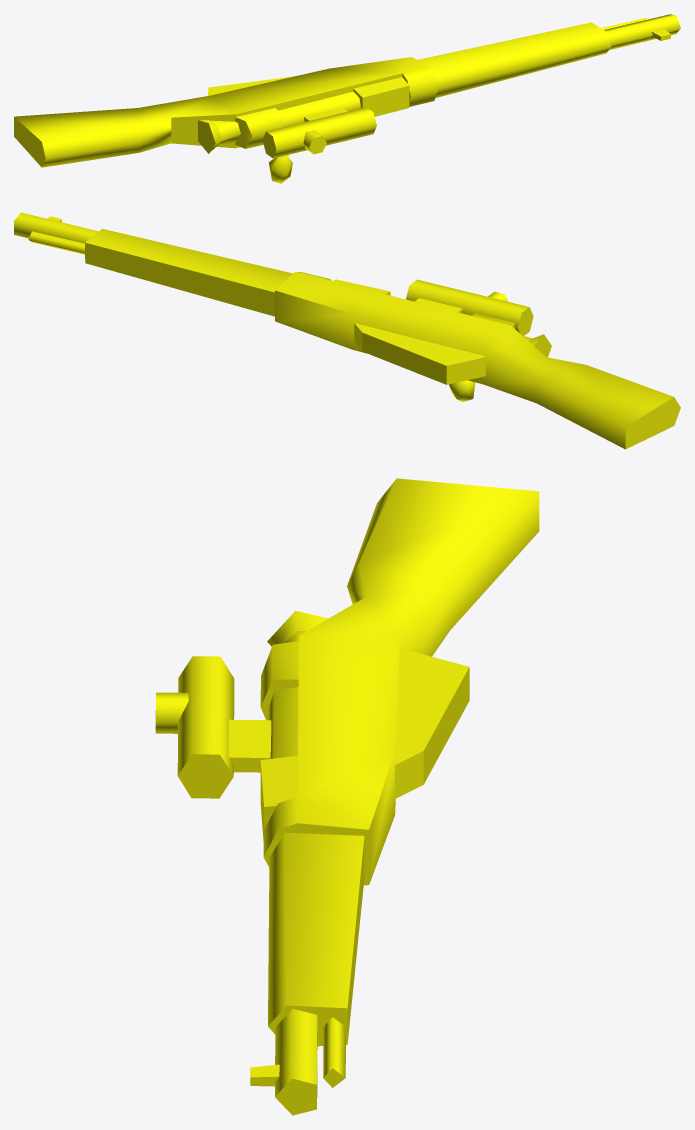
File: weapon_mosin_nagant_scope.glb
3 views of the same model, one above another, from view 1: azimuth 30°, elevation 25°; view 2: azimuth 150°, elevation 25°; view 3: azimuth 270°, elevation 25° (orthographic). The views are drawn at different scales.
Visible parts, largest first — view 1: weapon_mosin_nagant_scope; view 2: weapon_mosin_nagant_scope; view 3: weapon_mosin_nagant_scope.
Part boxes in pixels (left/top/right/bottom): weapon_mosin_nagant_scope: left=14, top=14, right=680, bottom=183; weapon_mosin_nagant_scope: left=14, top=212, right=680, bottom=449; weapon_mosin_nagant_scope: left=155, top=478, right=539, bottom=1115.
Bounding box in the file's own units: 1.86 × 0.2346 × 0.5077.
Materials: 1 (1 with a texture image).
